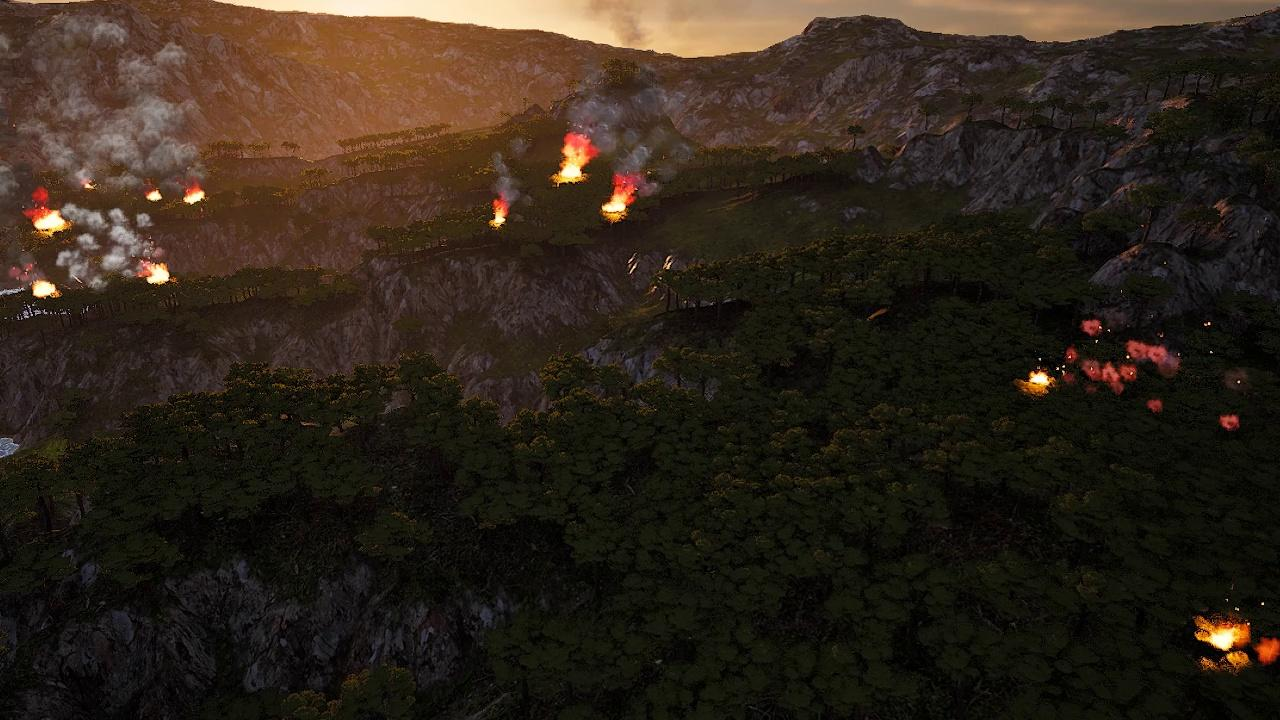fire: (1196, 617, 1259, 663), (556, 135, 596, 182), (603, 186, 636, 217), (35, 208, 68, 230), (144, 263, 171, 285), (1029, 371, 1053, 391), (491, 199, 508, 225), (32, 279, 56, 297), (185, 188, 206, 206), (146, 190, 162, 202), (82, 181, 94, 191)
smoke: (48, 20, 201, 188), (573, 91, 691, 194), (1063, 318, 1181, 397), (59, 207, 157, 289), (491, 149, 518, 205), (1217, 412, 1239, 431), (1146, 398, 1162, 413)
